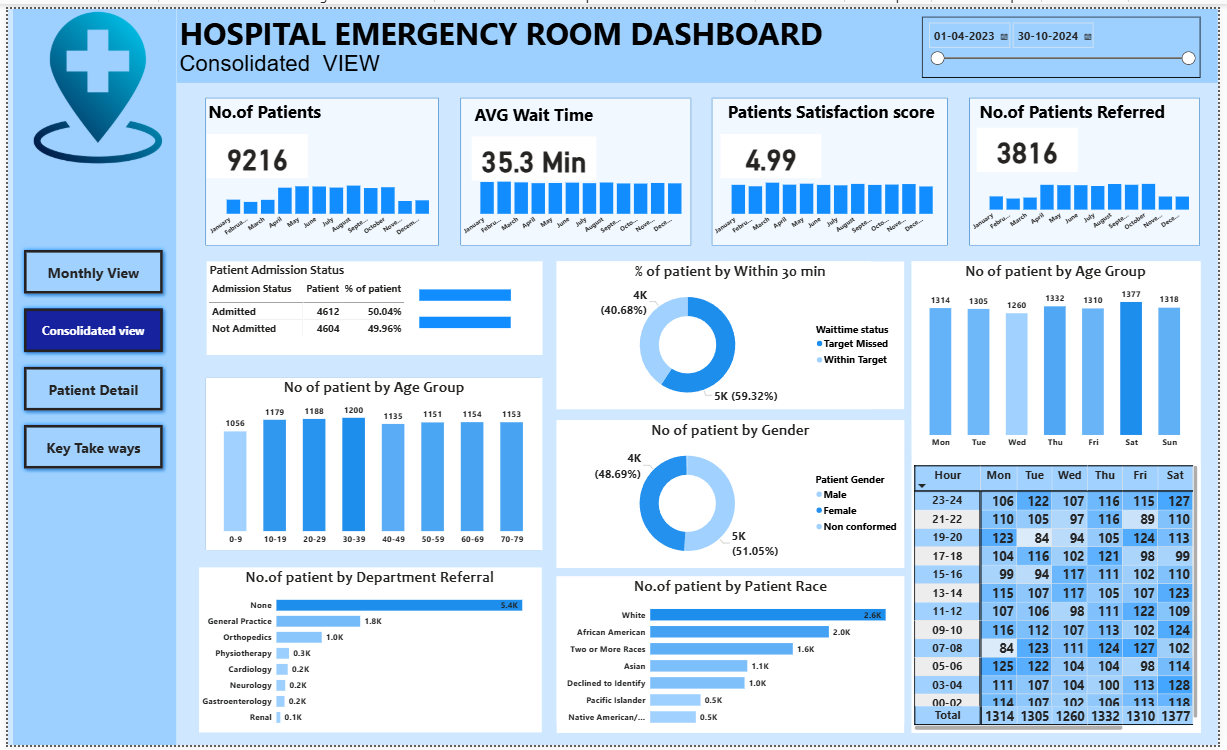

Layout of this report page (visuals, bound fields, positions):
{"tool":"powerbi","page":{"name":"Consolidated view","canvas":[2300,1400],"ordinal":1},"visuals":[{"type":"shape","box":[9.9,0,310.7,1400.5],"z":0},{"type":"shape","box":[320.5,0,1980,140.5],"z":1000},{"type":"textbox","box":[320.5,0,1245.2,115.9],"z":2000},{"type":"textbox","box":[321,73.7,499.3,66.6],"z":3000},{"type":"shape","box":[374.8,167.7,443.8,281.1],"z":4000},{"type":"card","fields":{"Values":["Hospital ER_Data.NO.of patient"]},"box":[377.3,236.7,192.3,83.8],"z":5000},{"type":"slicer","fields":{"Values":["Date Table.Date"]},"box":[1738.1,14.3,530.2,116.5],"z":6000},{"type":"textbox","box":[374.8,167.7,266.3,69],"z":7000},{"type":"columnChart","fields":{"Y":["AMeasure.No.of patient"],"Category":["Date Table.Date.Variation.Date Hierarchy.Month"]},"box":[377.3,298.4,441.4,145.5],"z":8000},{"type":"shape","box":[377.3,480.8,638.6,177.5],"z":9000},{"type":"shape","box":[859.7,167.7,438.9,281.1],"z":10000},{"type":"card","fields":{"Values":["AMeasure.Avg wait time"]},"box":[882.7,241.6,236.7,83.8],"z":11000},{"type":"textbox","box":[882.7,172.6,266.3,69],"z":12000},{"type":"columnChart","fields":{"Y":["Avg(Hospital ER_Data.Patient Waittime)"],"Category":["Date Table.Date.Variation.Date Hierarchy.Month"]},"box":[860.5,308.2,438.9,130.7],"z":13000},{"type":"shape","box":[1339.7,167.7,448.8,281.1],"z":14000},{"type":"card","fields":{"Values":["Avg(Hospital ER_Data.Patient Satisfaction Score)"]},"box":[1356.1,236.7,192.3,83.8],"z":15000},{"type":"textbox","box":[1356.1,167.7,421.6,69],"z":16000},{"type":"columnChart","fields":{"Y":["Avg(Hospital ER_Data.Patient Satisfaction Score)"],"Category":["Date Table.Date.Variation.Date Hierarchy.Month"]},"box":[1338.9,308.2,438.9,130.7],"z":17000},{"type":"shape","box":[1829.6,167.7,438.9,281.1],"z":18000},{"type":"card","fields":{"Values":["AMeasure.No. of patient referred"]},"box":[1841.9,226.8,192.3,83.8],"z":19000},{"type":"textbox","box":[1841.9,167.7,389.6,69],"z":20000},{"type":"columnChart","fields":{"Y":["AMeasure.No. of patient referred"],"Category":["Date Table.Date.Variation.Date Hierarchy.Month"]},"box":[1829.6,298.4,436.4,135.6],"z":21000},{"type":"pivotTable","title":"Patient Admission Status","fields":{"Rows":["Hospital ER_Data.Admission Status"],"Values":["AMeasure.NO.of patient1","AMeasure.NO.of patient"]},"box":[377.3,480.8,384.6,177.5],"z":22000},{"type":"barChart","fields":{"Category":["Hospital ER_Data.Admission Status"],"Y":["AMeasure.NO.of patient"]},"box":[776.7,495.6,236.7,147.9],"z":23000},{"type":"shape","box":[374.8,700.3,638.6,327.9],"z":24000},{"type":"columnChart","title":"No of patient by Age Group","fields":{"Y":["AMeasure.NO.of patient"],"Category":["Hospital ER_Data.Age Group"]},"box":[374.8,700.3,641.1,327.9],"z":25000},{"type":"shape","box":[364.9,1062.7,650.9,313.1],"z":26000},{"type":"barChart","fields":{"Category":["Hospital ER_Data.Department Referral"],"Y":["AMeasure.NO.of patient"]},"box":[364.9,1062.7,648.5,313.1],"z":27000},{"type":"shape","box":[1043,480.8,596.7,281.1],"z":28000},{"type":"donutChart","title":"% of patient by Within 30 min","fields":{"Category":["Hospital ER_Data.Waittime status"],"Y":["AMeasure.No.of patient"]},"box":[1043,480.8,660.8,281.1],"z":29000},{"type":"shape","box":[1043,781.6,660.8,281.1],"z":30000},{"type":"donutChart","title":"No of patient by Gender","fields":{"Y":["AMeasure.No.of patient"],"Category":["Hospital ER_Data.Patient Gender"]},"box":[1043.8,782.3,661,280.6],"z":31000},{"type":"shape","box":[1719.1,480.3,549.3,896.4],"z":32000},{"type":"shape","box":[1043.8,1079.5,661,280.6],"z":33000},{"type":"barChart","fields":{"Y":["AMeasure.NO.of patient"],"Category":["Hospital ER_Data.Patient Race"]},"box":[1043.8,1079.5,661,297.2],"z":34000},{"type":"pivotTable","fields":{"Rows":["Hospital ER_Data.Waittime interval"],"Columns":["Date Table.Day name"],"Values":["AMeasure.No.of patient"]},"box":[1719.1,863.1,549.3,513.6],"z":35000},{"type":"columnChart","title":"No of patient by Age Group","fields":{"Y":["AMeasure.NO.of patient"],"Category":["Date Table.Day name"]},"box":[1719.1,480.3,546.9,366.2],"z":36000},{"type":"image","box":[21.4,0,299.6,299.6],"z":37000},{"type":"pageNavigator","box":[21.4,449.4,282.9,435.1],"z":38000}]}

Visuals, with their boxes in screenshot pixels (x1, y1, x2, y2), scaled from the page's 2300x1400 canvas onto the 1227x750 screenshot:
shape: box=[5, 0, 171, 749]
shape: box=[171, 0, 1226, 75]
textbox: box=[171, 0, 835, 62]
textbox: box=[171, 39, 438, 75]
shape: box=[200, 90, 437, 240]
card - Hospital ER_Data.NO.of patient: box=[201, 127, 304, 172]
slicer - Date Table.Date: box=[927, 8, 1210, 70]
textbox: box=[200, 90, 342, 127]
columnChart - AMeasure.No.of patient x Date Table.Date.Variation.Date Hierarchy.Month: box=[201, 160, 437, 238]
shape: box=[201, 258, 542, 353]
shape: box=[459, 90, 693, 240]
card - AMeasure.Avg wait time: box=[471, 129, 597, 174]
textbox: box=[471, 92, 613, 129]
columnChart - Avg(Hospital ER_Data.Patient Waittime) x Date Table.Date.Variation.Date Hierarchy.Month: box=[459, 165, 693, 235]
shape: box=[715, 90, 954, 240]
card - Avg(Hospital ER_Data.Patient Satisfaction Score): box=[723, 127, 826, 172]
textbox: box=[723, 90, 948, 127]
columnChart - Avg(Hospital ER_Data.Patient Satisfaction Score) x Date Table.Date.Variation.Date Hierarchy.Month: box=[714, 165, 948, 235]
shape: box=[976, 90, 1210, 240]
card - AMeasure.No. of patient referred: box=[983, 122, 1085, 166]
textbox: box=[983, 90, 1190, 127]
columnChart - AMeasure.No. of patient referred x Date Table.Date.Variation.Date Hierarchy.Month: box=[976, 160, 1209, 232]
"Patient Admission Status" pivotTable: box=[201, 258, 406, 353]
barChart - Hospital ER_Data.Admission Status x AMeasure.NO.of patient: box=[414, 266, 541, 345]
shape: box=[200, 375, 541, 551]
"No of patient by Age Group" columnChart: box=[200, 375, 542, 551]
shape: box=[195, 569, 542, 737]
barChart - Hospital ER_Data.Department Referral x AMeasure.NO.of patient: box=[195, 569, 541, 737]
shape: box=[556, 258, 875, 408]
"% of patient by Within 30 min" donutChart: box=[556, 258, 909, 408]
shape: box=[556, 419, 909, 569]
"No of patient by Gender" donutChart: box=[557, 419, 909, 569]
shape: box=[917, 257, 1210, 738]
shape: box=[557, 578, 909, 729]
barChart - AMeasure.NO.of patient x Hospital ER_Data.Patient Race: box=[557, 578, 909, 738]
pivotTable - Hospital ER_Data.Waittime interval x Date Table.Day name: box=[917, 462, 1210, 738]
"No of patient by Age Group" columnChart: box=[917, 257, 1209, 453]
image: box=[11, 0, 171, 160]
pageNavigator: box=[11, 241, 162, 474]
